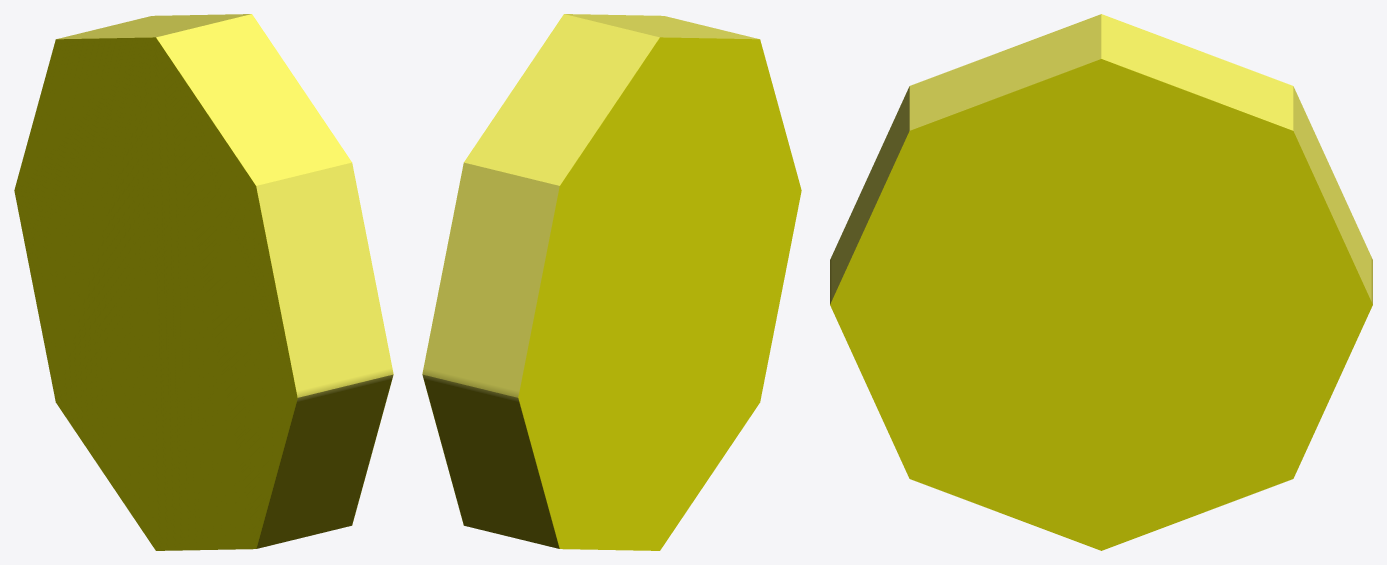
Rendered from crystal200.obj.
3 renders of one model, left to right at view 1: azimuth 30°, elevation 25°; view 2: azimuth 150°, elevation 25°; view 3: azimuth 270°, elevation 25°, orthographic. The views are drawn at different scales.
Parts seen in each view (by area): view 1: coin_Cylinder.001; view 2: coin_Cylinder.001; view 3: coin_Cylinder.001.
Part boxes in pixels (left/top/right/bottom): coin_Cylinder.001: left=14, top=14, right=393, bottom=550; coin_Cylinder.001: left=422, top=14, right=801, bottom=550; coin_Cylinder.001: left=830, top=14, right=1372, bottom=550.
Bounding box in the file's own units: 2.93 × 14.96 × 14.96.
Materials: 1 (1 with a texture image).
